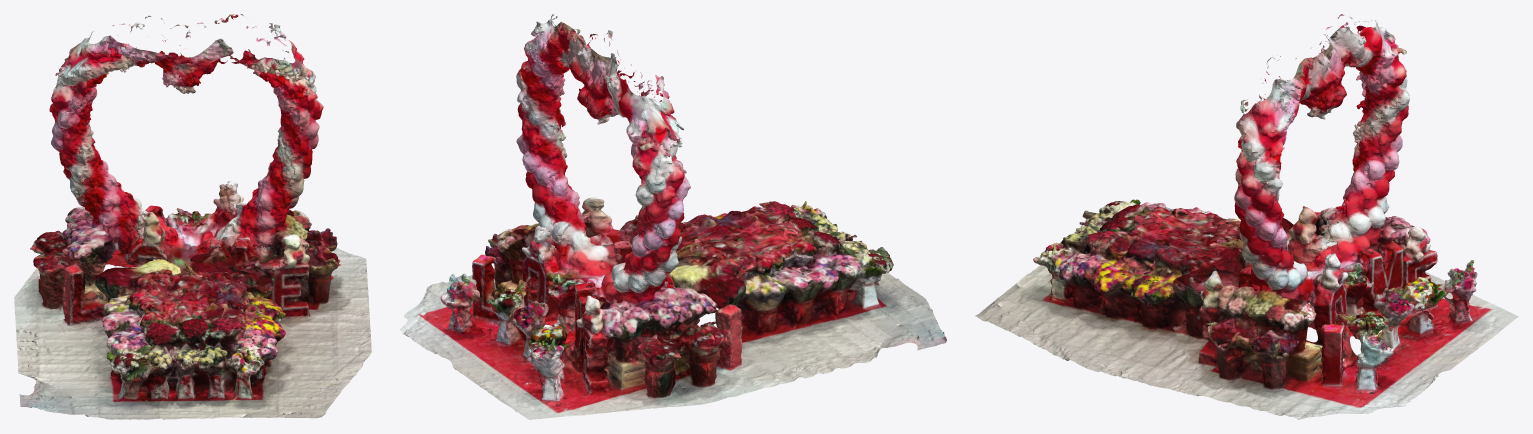
Rendered from corazon-flores.glb.
3 views of the same model, side by side, from view 1: azimuth 30°, elevation 25°; view 2: azimuth 150°, elevation 25°; view 3: azimuth 270°, elevation 25° (orthographic). The views are drawn at different scales.
Size of the model in its own units: 4.76 by 3.14 by 5.11.
1 material, 1 textured.
